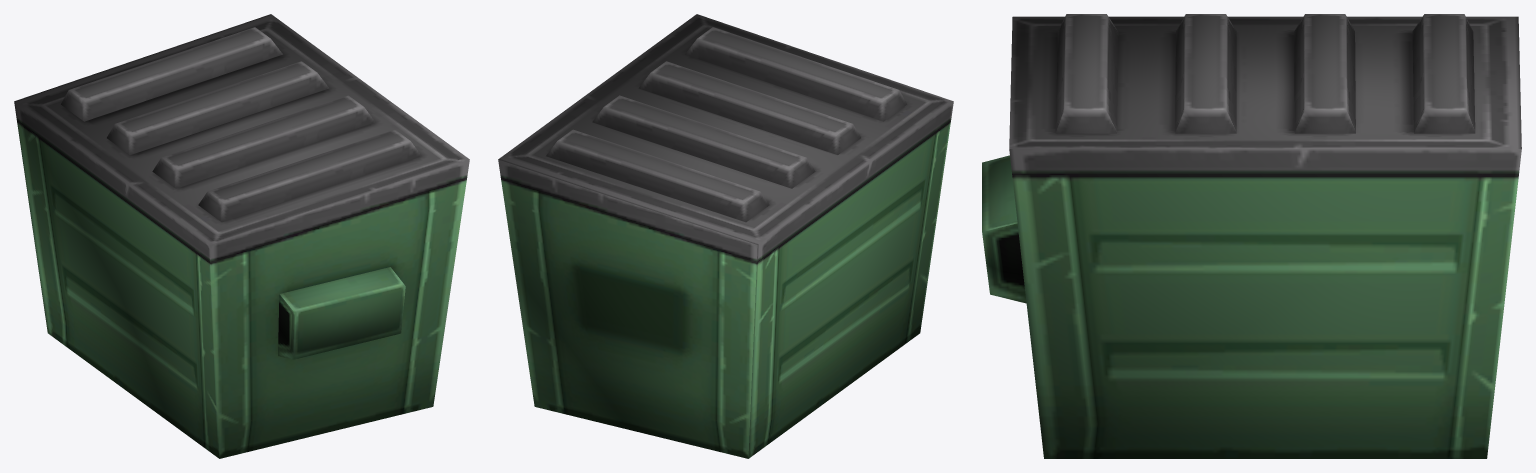
Rendered from SYJ_lajitong02.FBX.
The picture shows the model from 3 angles, left to right: view 1: azimuth 30°, elevation 25°; view 2: azimuth 150°, elevation 25°; view 3: azimuth 270°, elevation 25°; orthographic projection. The views are drawn at different scales.
Parts seen in each view (by area): view 1: SYJ_lajitong02; view 2: SYJ_lajitong02; view 3: SYJ_lajitong02.
Part boxes in pixels (x1=…): SYJ_lajitong02: x1=14, y1=14, x2=469, y2=458; SYJ_lajitong02: x1=498, y1=14, x2=953, y2=458; SYJ_lajitong02: x1=982, y1=14, x2=1521, y2=458.
Bounding box in the file's own units: 197 × 192 × 276.
